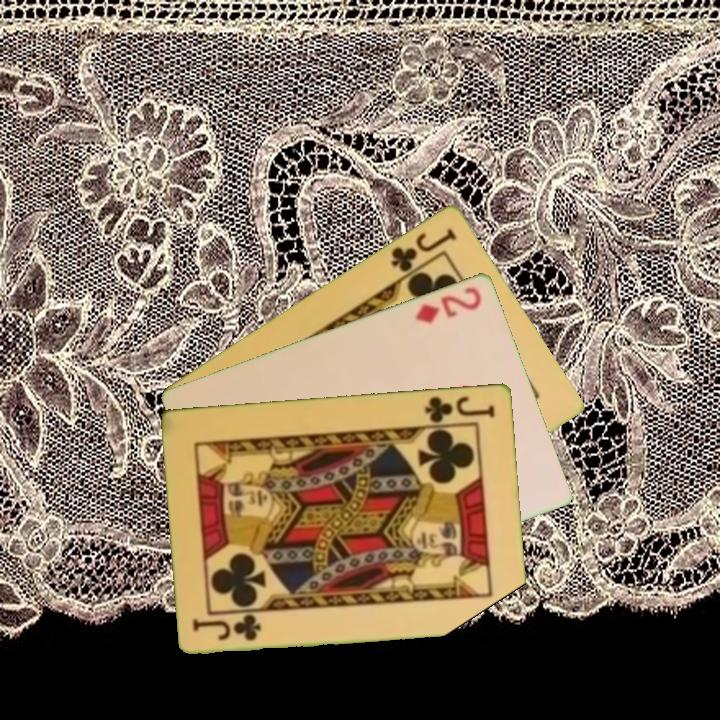2d: (411, 283, 485, 326)
Jc: (387, 223, 460, 275), (422, 392, 498, 425), (190, 612, 265, 643)
